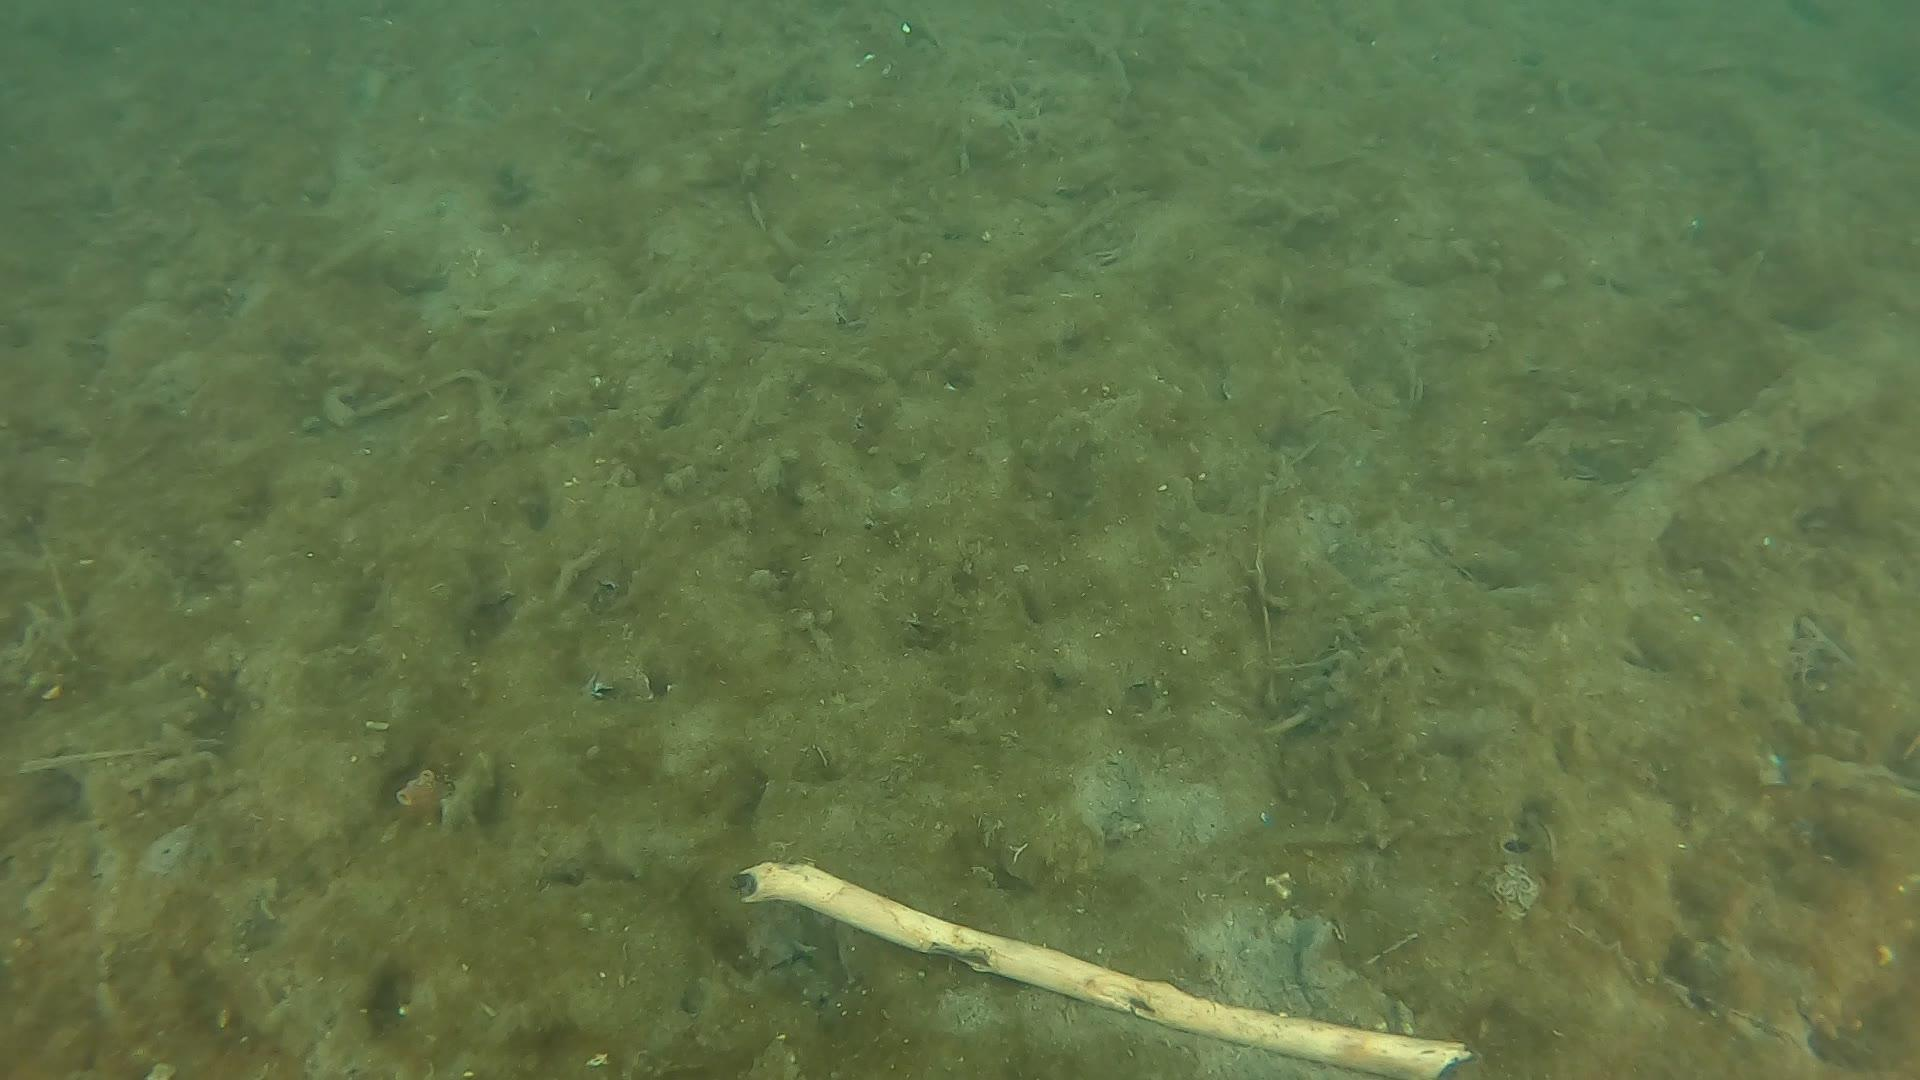wood: (733, 857, 1472, 1080)
